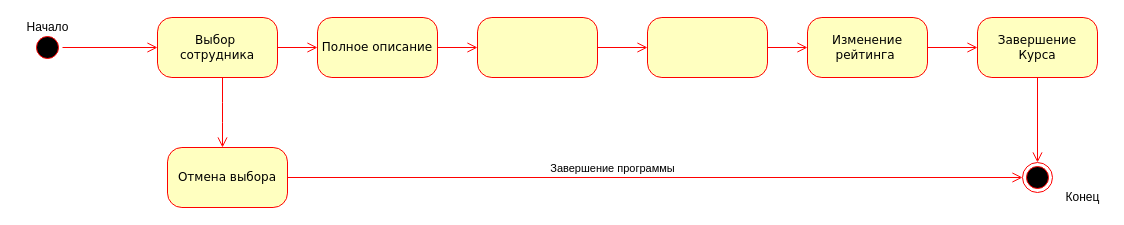
This 1124x225 diagram has some shape labels left out. Each missing label, with the box of its shape:
Запись на Тренировку: (476, 16, 598, 78)
Проведение Тренировки: (646, 16, 768, 78)
